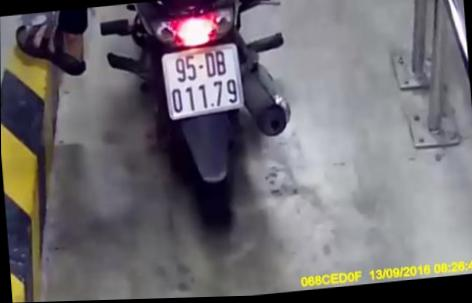LP: (160, 42, 244, 123)
